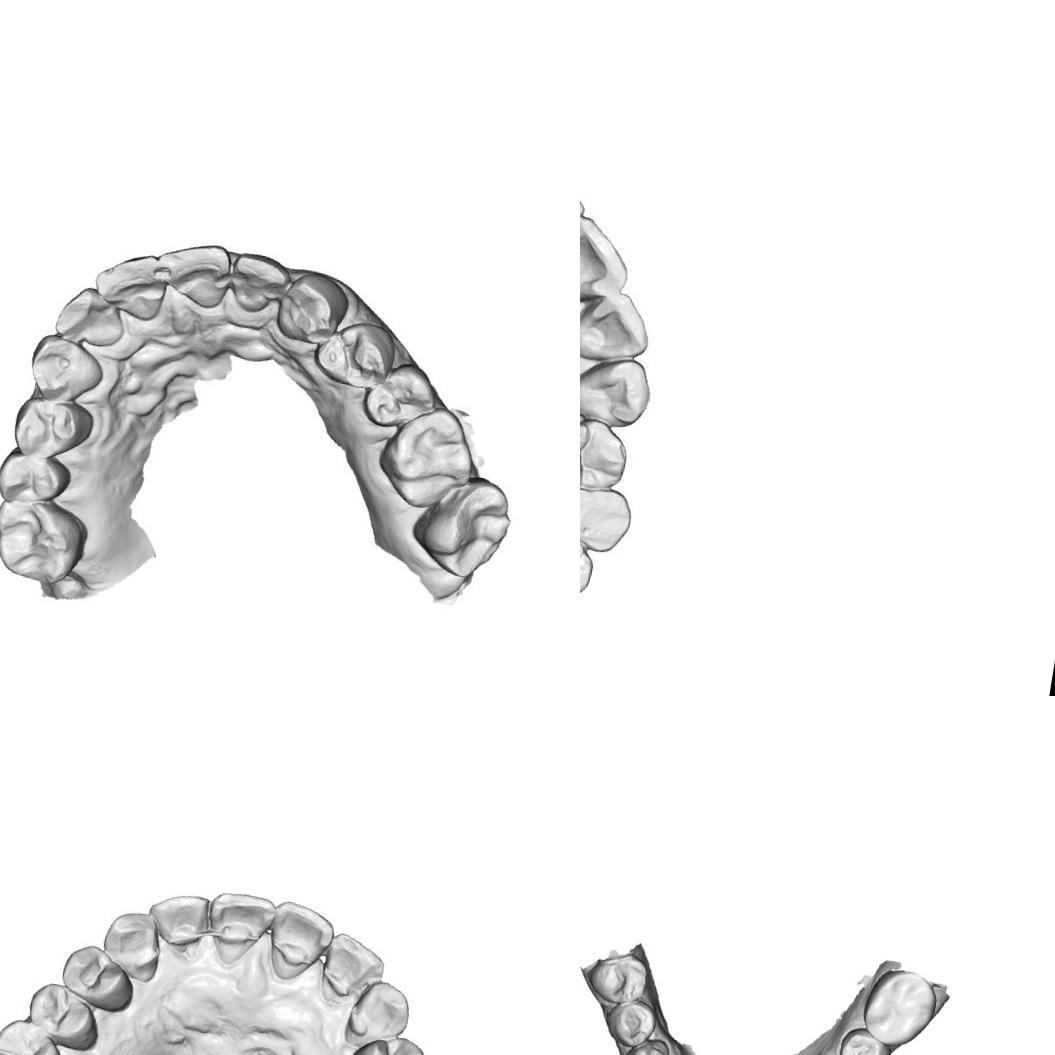canine: (274, 268, 350, 356), (580, 348, 656, 433), (27, 333, 107, 410), (341, 976, 416, 1054), (96, 906, 166, 986), (621, 1033, 673, 1055)
crown: (580, 473, 638, 554)
incisor: (263, 898, 338, 988), (200, 886, 278, 972), (580, 282, 653, 371), (580, 208, 640, 313), (229, 244, 305, 325), (50, 286, 132, 361), (316, 930, 390, 1012), (157, 235, 235, 312), (93, 248, 169, 324), (142, 888, 212, 952)
molar: (414, 476, 520, 588), (380, 403, 477, 509), (0, 495, 90, 591), (862, 970, 938, 1047), (0, 1013, 78, 1055)
premolar: (315, 315, 400, 398), (8, 392, 94, 471), (360, 358, 445, 436), (56, 940, 140, 1016), (24, 978, 106, 1054), (0, 447, 70, 517), (580, 405, 630, 497), (582, 948, 652, 1008), (602, 994, 662, 1052), (341, 1028, 430, 1055), (834, 1024, 895, 1055)
